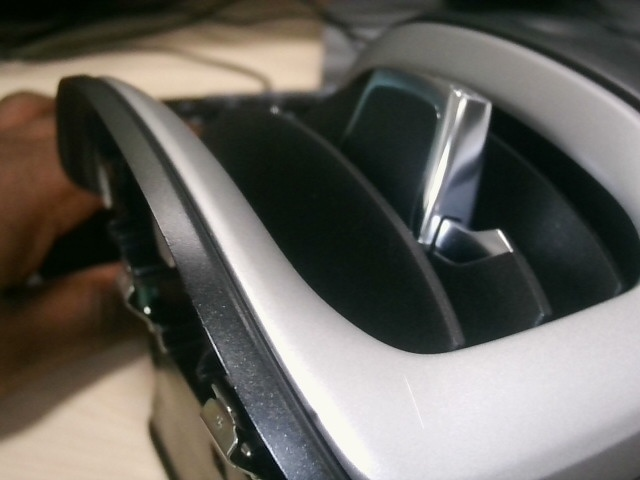NG: (397, 369, 435, 438), (190, 288, 223, 343)
